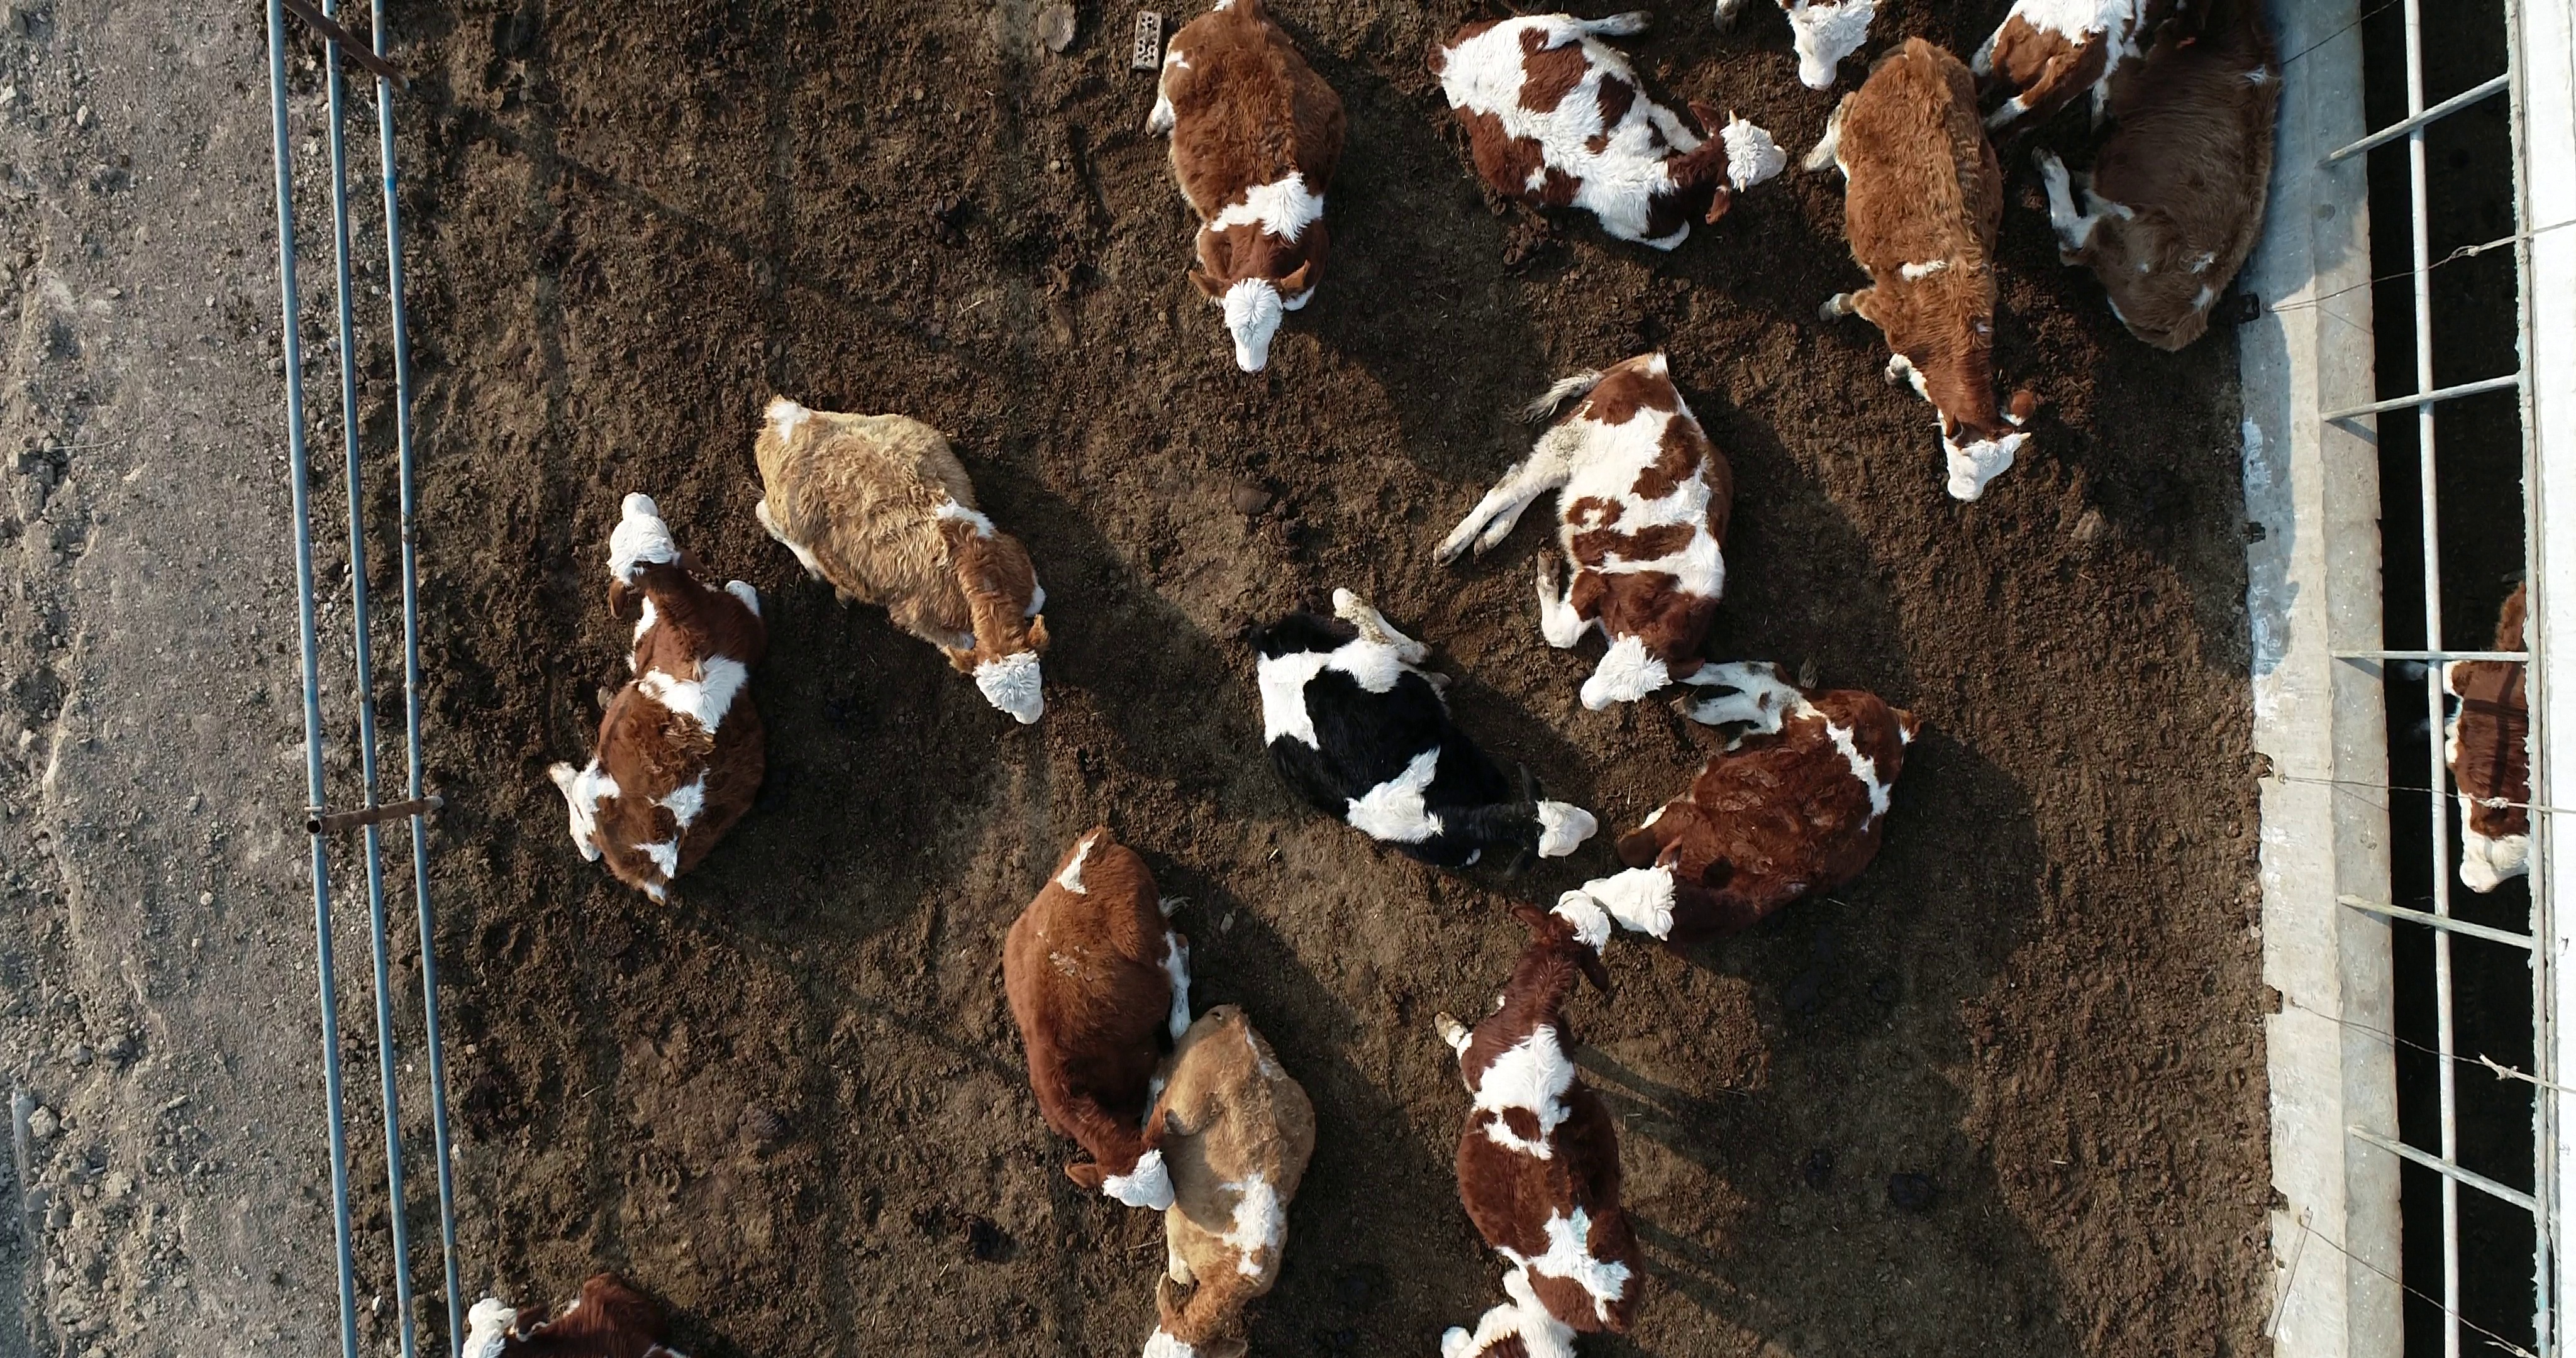cattle: (1789, 31, 2044, 508)
